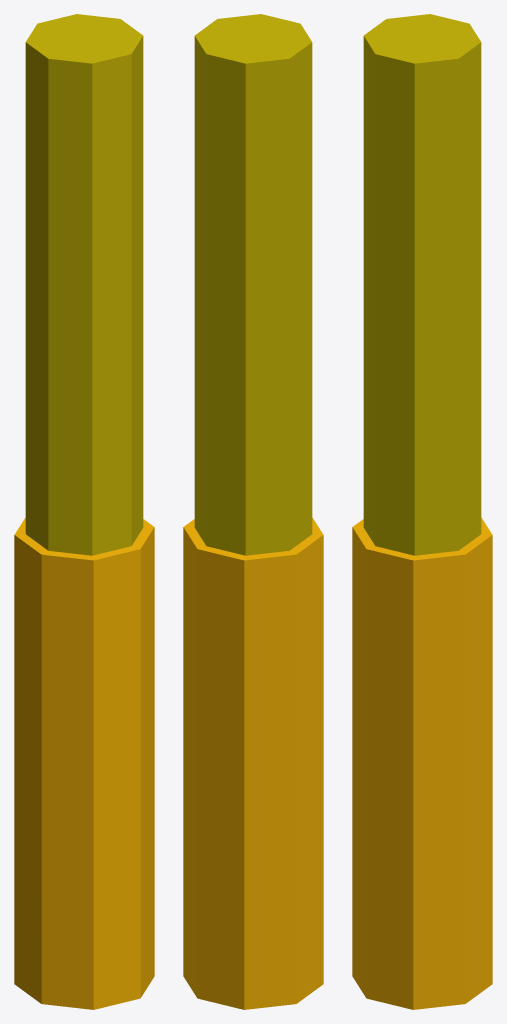
File: mpe_driveshaft_telescopic_medium_a.dae
The picture shows the model from 3 angles, left to right: view 1: azimuth 30°, elevation 25°; view 2: azimuth 150°, elevation 25°; view 3: azimuth 330°, elevation 25°; orthographic projection.
Parts seen in each view (by area): view 1: telescopic_driveshaft_medium_a; view 2: telescopic_driveshaft_medium_a; view 3: telescopic_driveshaft_medium_a.
Boxes of the visible parts, x1,y1,x2,y2 form: telescopic_driveshaft_medium_a: [14, 14, 154, 1009]; telescopic_driveshaft_medium_a: [183, 14, 323, 1009]; telescopic_driveshaft_medium_a: [352, 14, 492, 1009].
Size of the model in its own units: 0.125 by 0.125 by 0.995.
